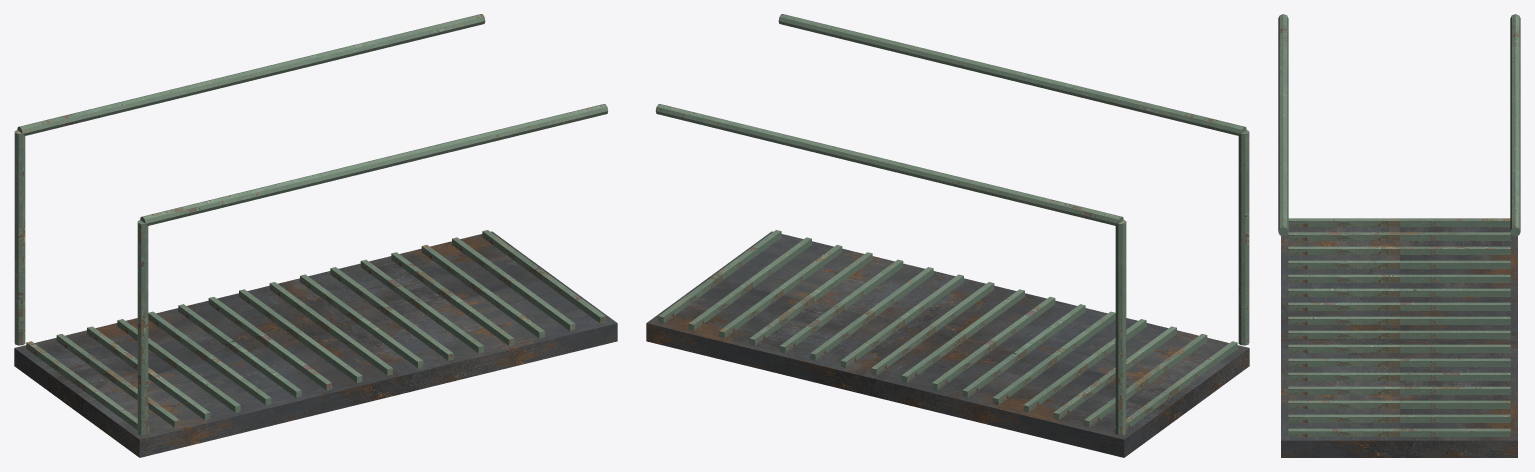
Rendered from silo-service-platform.gltf.
The picture shows the model from 3 angles, left to right: view 1: azimuth 30°, elevation 25°; view 2: azimuth 150°, elevation 25°; view 3: azimuth 270°, elevation 25°; orthographic projection. The views are drawn at different scales.
Parts seen in each view (by area): view 1: component-service-bridge-22-steel-0, component-service-bridge-22-seafoam-1; view 2: component-service-bridge-22-steel-0, component-service-bridge-22-seafoam-1; view 3: component-service-bridge-22-seafoam-1, component-service-bridge-22-steel-0.
Boxes of the visible parts, <box> form: component-service-bridge-22-steel-0: <box>14,231,617,457</box>; component-service-bridge-22-seafoam-1: <box>14,14,608,435</box>; component-service-bridge-22-steel-0: <box>646,231,1249,457</box>; component-service-bridge-22-seafoam-1: <box>655,14,1249,435</box>; component-service-bridge-22-seafoam-1: <box>1278,14,1520,436</box>; component-service-bridge-22-steel-0: <box>1281,227,1517,457</box>.
Size of the model in its own units: 2.2 by 1.05 by 1.02.
2 materials, 2 textured.
